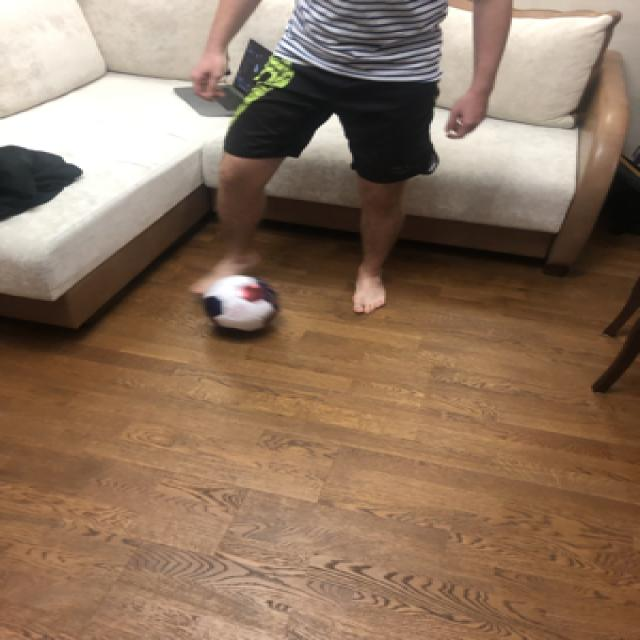soccer_ball: (198, 272, 282, 333)
